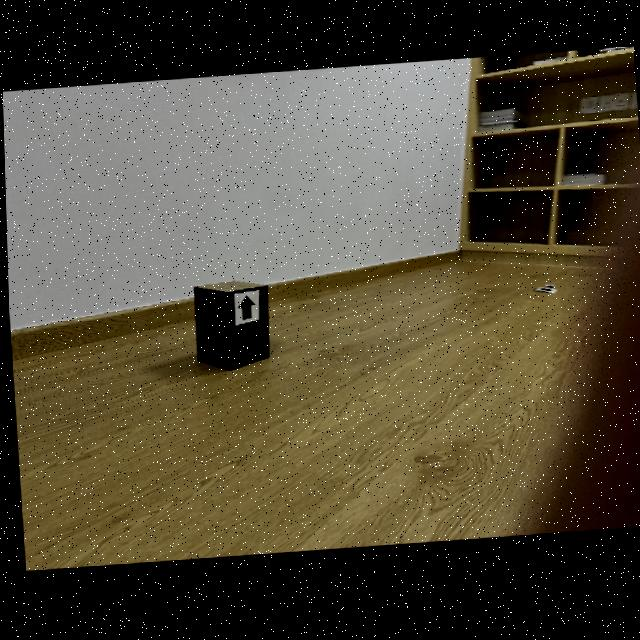UP: (236, 297, 254, 321)
